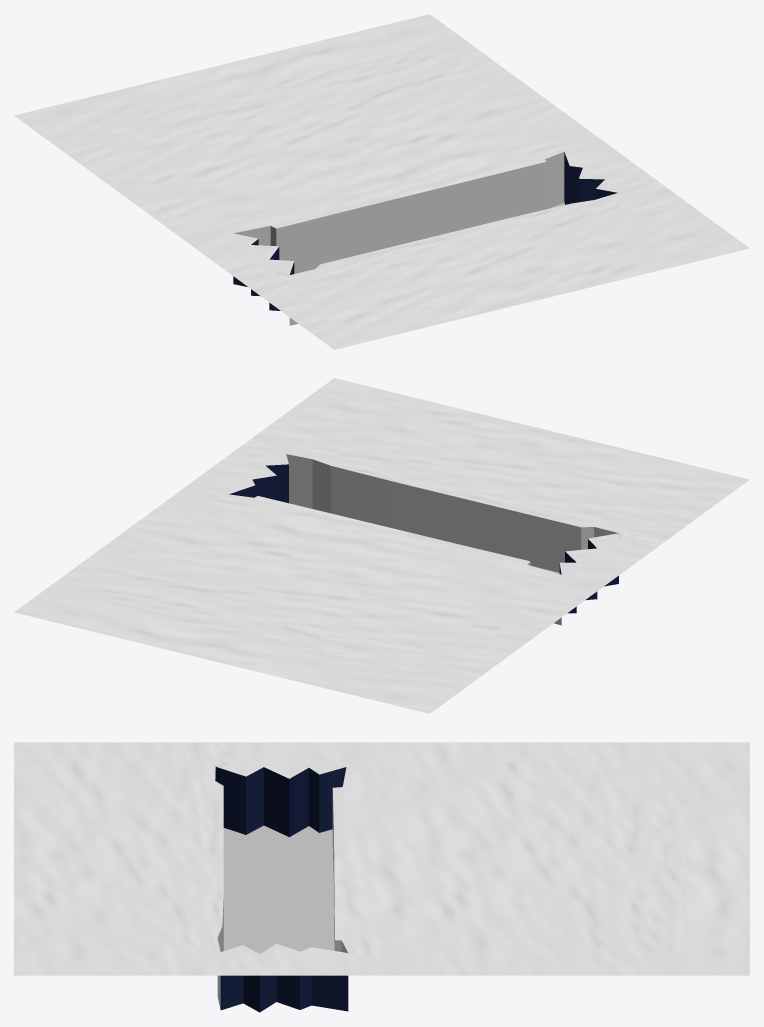
File: trapL02.FBX
The picture shows the model from 3 angles, top to bottom: view 1: azimuth 30°, elevation 25°; view 2: azimuth 150°, elevation 25°; view 3: azimuth 270°, elevation 25°; orthographic projection. The views are drawn at different scales.
Visible parts, largest first — view 1: modelRoad057; view 2: modelRoad057; view 3: modelRoad057.
Part boxes in pixels (box(x1,y1,x2,y2)): modelRoad057: box(14, 14, 749, 349); modelRoad057: box(14, 378, 749, 713); modelRoad057: box(14, 742, 749, 1012).
Size of the model in its own units: 600 by 70 by 800.
